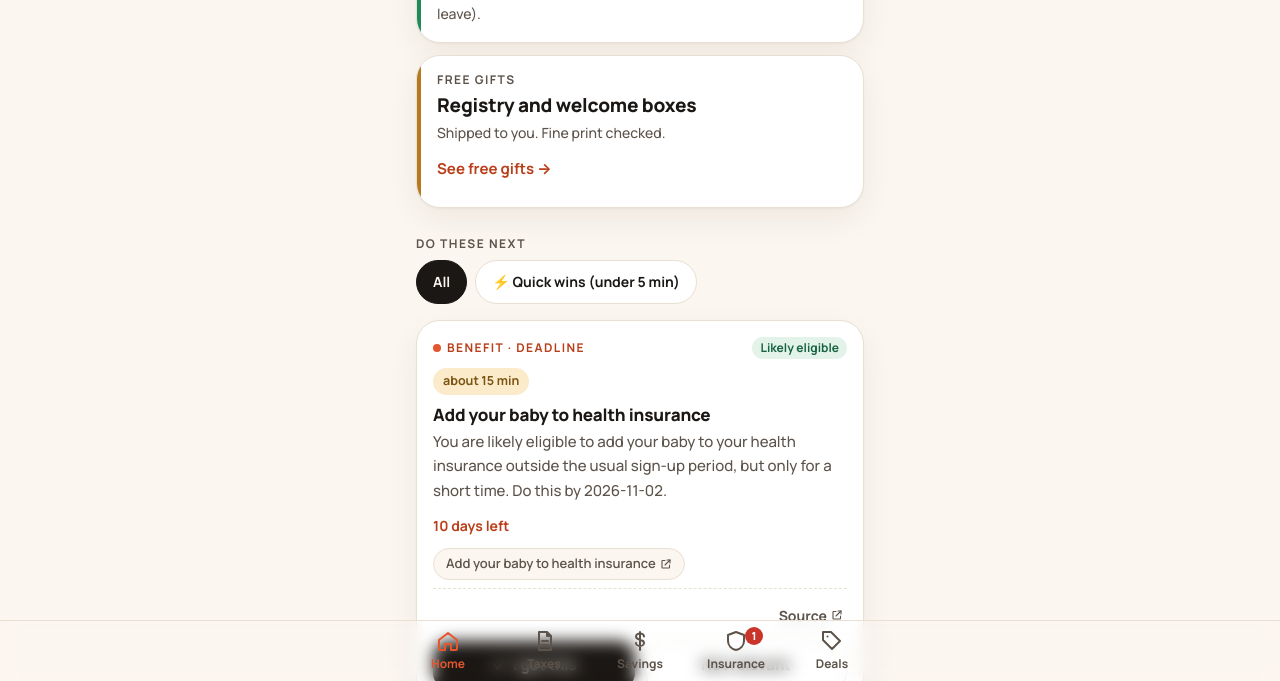
Test: Home after "Not relevant" › a "Not relevant" card is out of "Do these next" too, and Quick wins shows only what is under 5 minutes
The width and height of the screenshot is (1280, 681).
(page scrolled)
What coordinates should you click on to do the following:
click the button "⚡ Quick wins (under 5 min)"
I would click on:
 (586, 282)
Its box is [475,260,697,304].
(page scrolled)
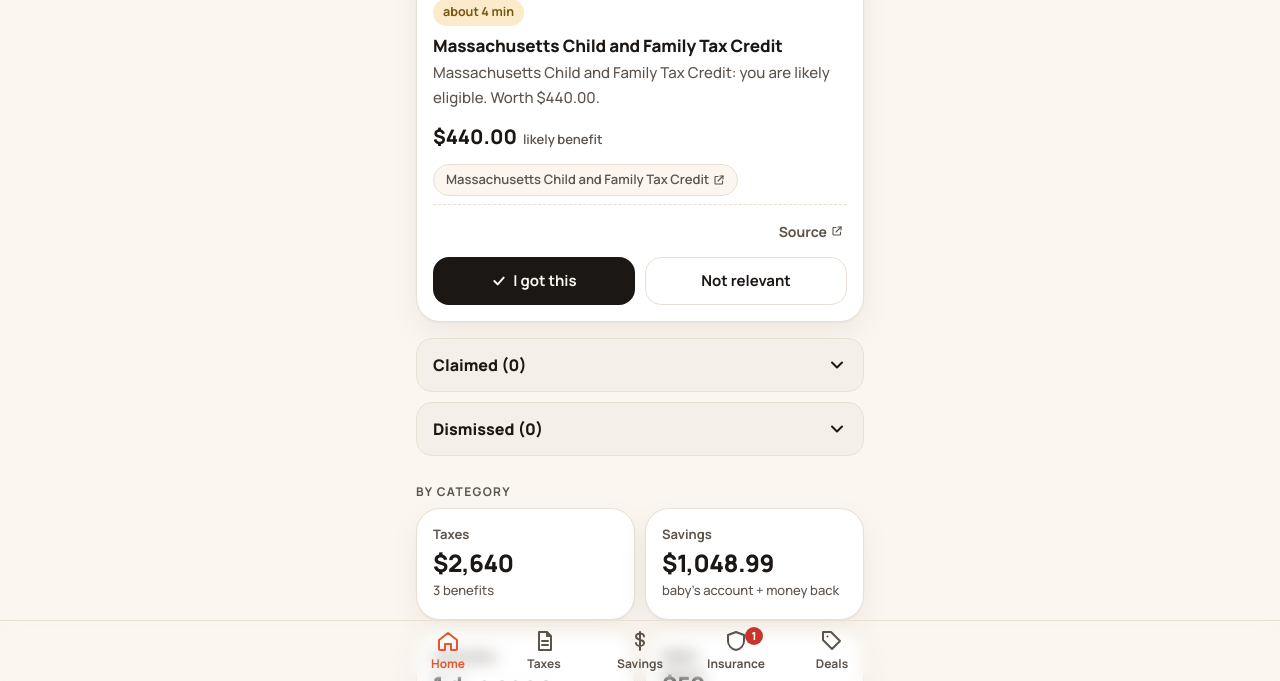
What coordinates should you click on to do the following:
click the 2nd button "Not relevant"
I would click on:
 (746, 281)
Its box is [645,257,847,305].
(page scrolled)
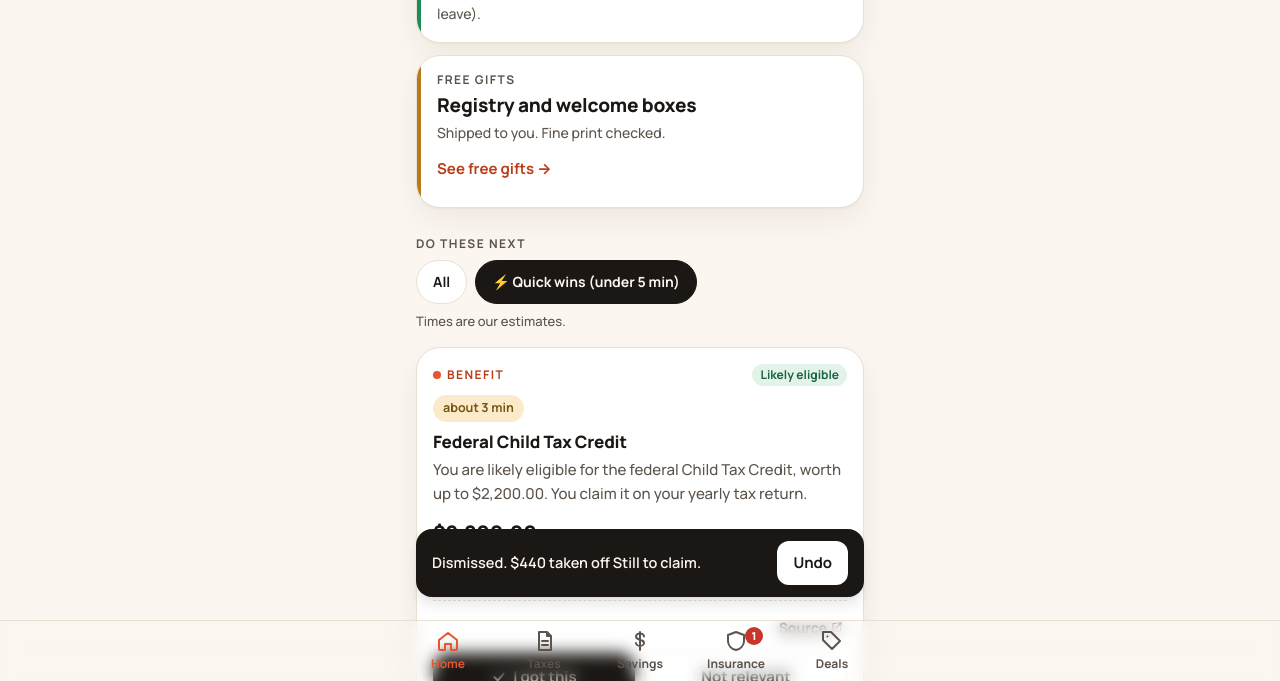
What coordinates should you click on to do the following:
click the button "All"
I would click on:
 (442, 282)
Its box is [416,260,467,304].
(page scrolled)
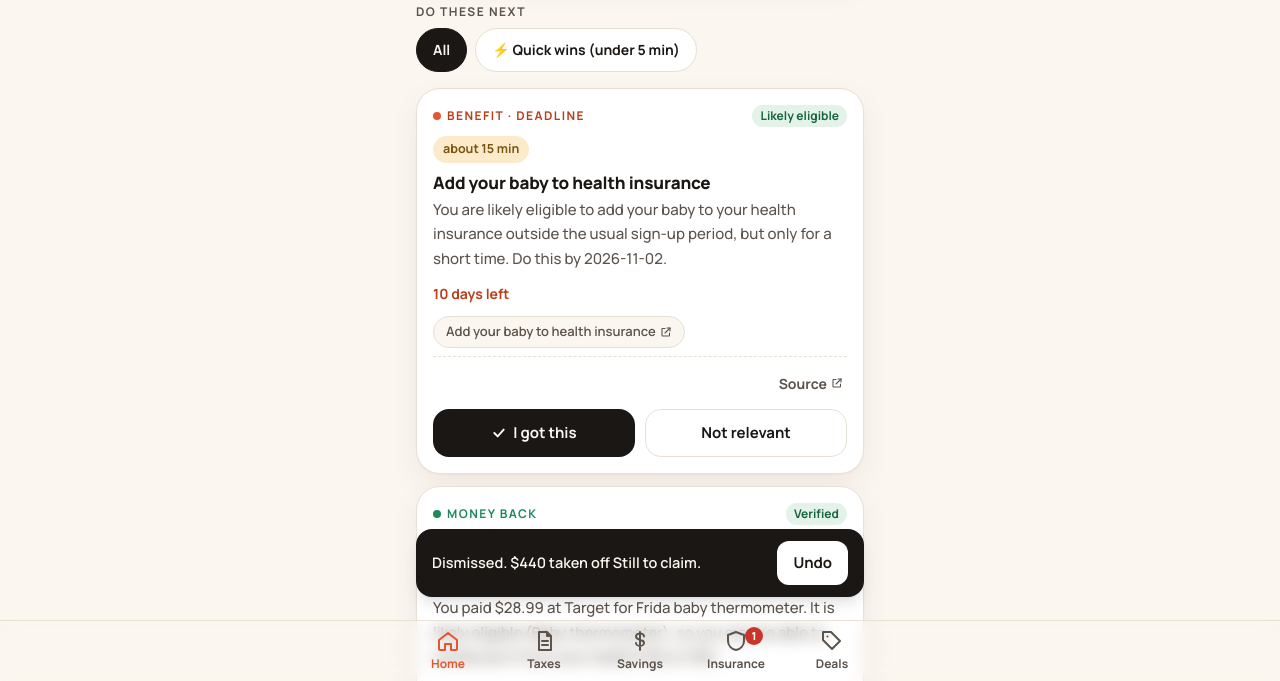
Expected: the element named "Add your baby to health insurance" is shown, [416,88,864,474]
